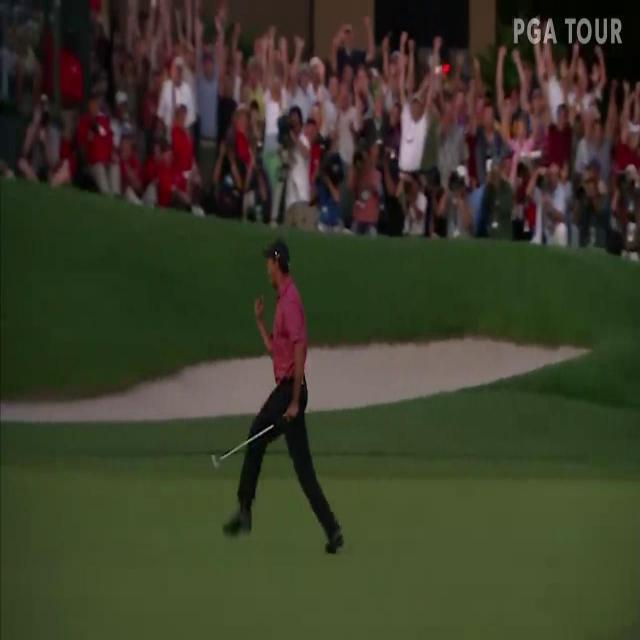ClubHead: (208, 445, 230, 473)
